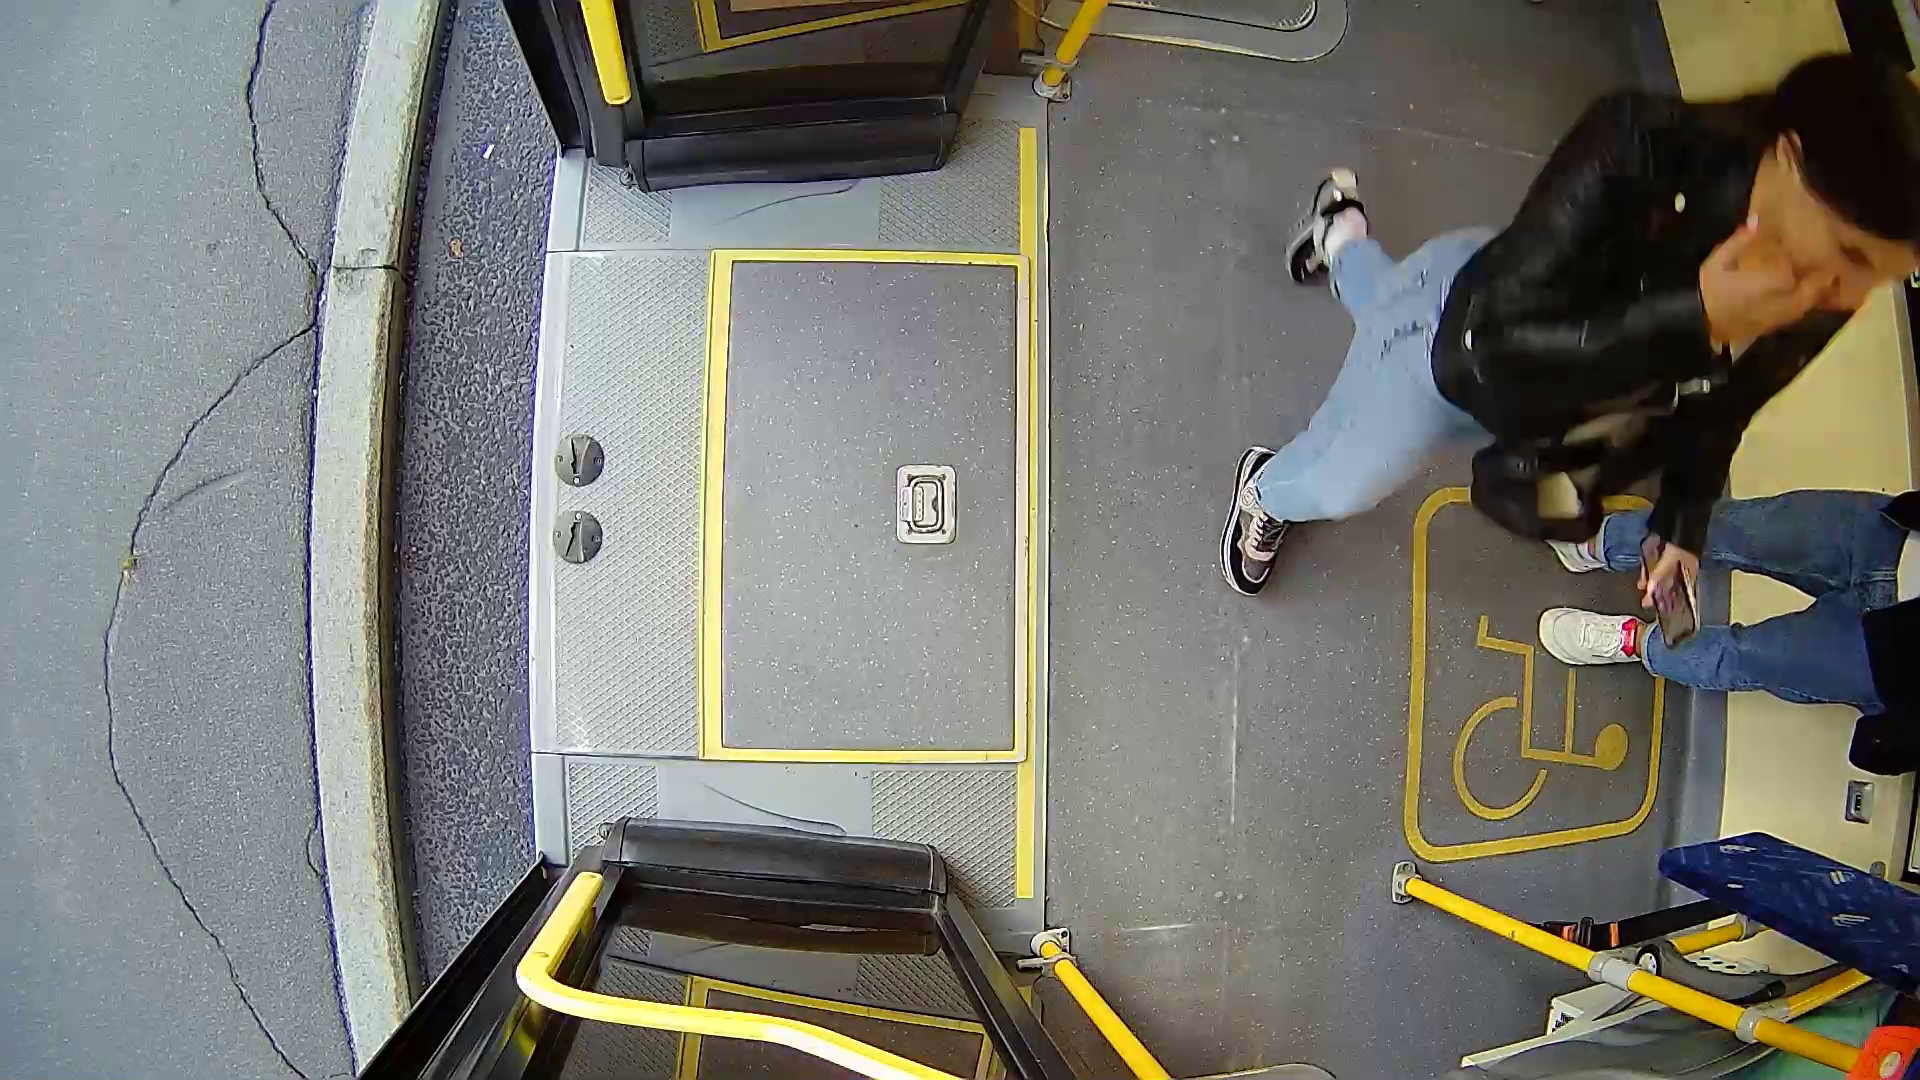person: (1247, 50, 1920, 620)
